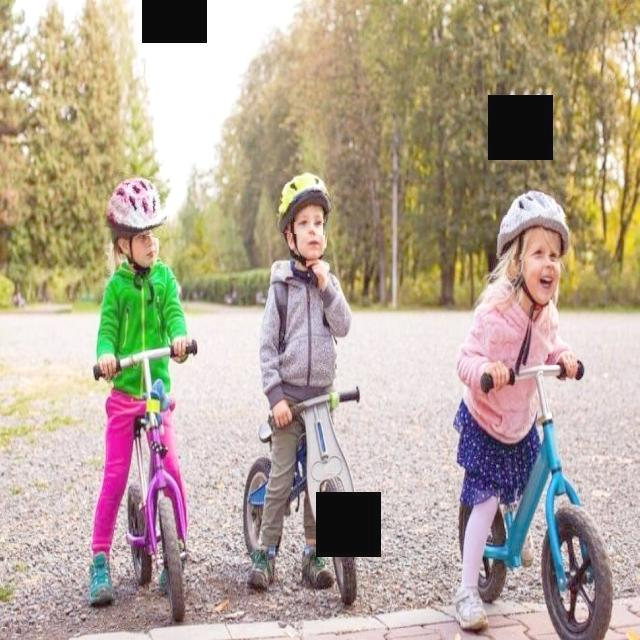helmet: (496, 189, 571, 262), (104, 173, 170, 236), (276, 172, 332, 234)
